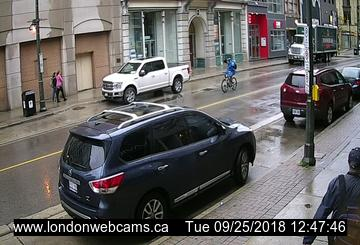Car: (56, 103, 260, 234), (99, 54, 194, 106), (278, 68, 357, 126), (289, 21, 339, 65)
person: (53, 66, 65, 105)
riding bicycle: (218, 56, 242, 94)
